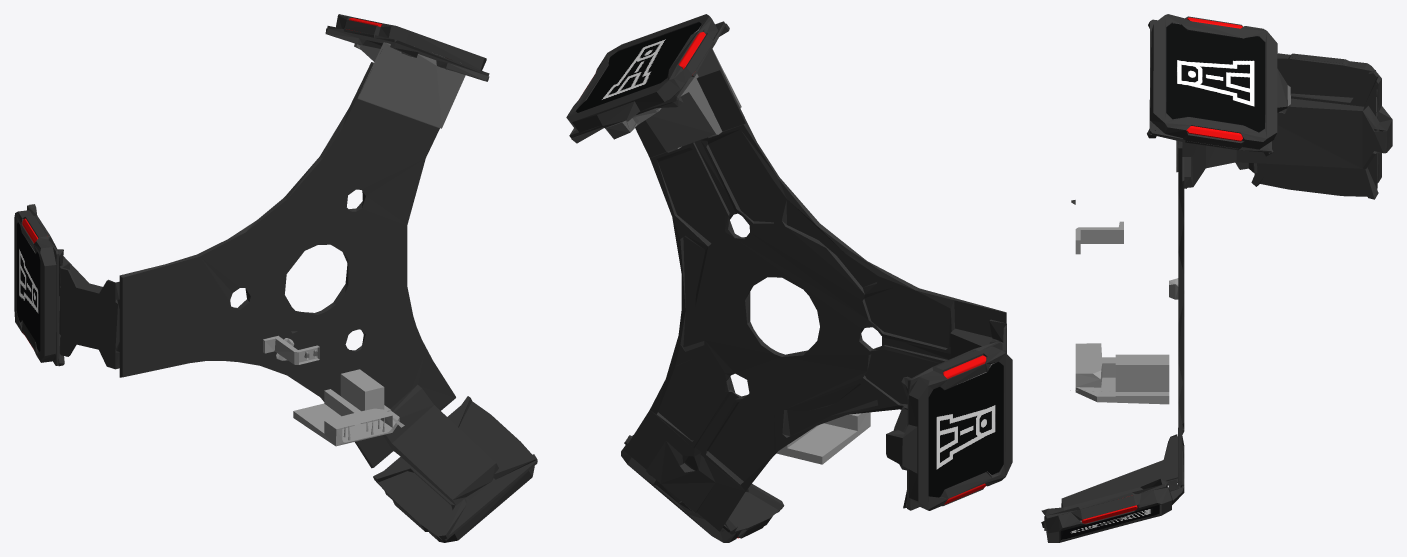
File: rotor_visual.glb
3 views of the same model, side by side, from view 1: azimuth 30°, elevation 25°; view 2: azimuth 150°, elevation 25°; view 3: azimuth 270°, elevation 25° (orthographic). The views are drawn at different scales.
Parts seen in each view (by area): view 1: rotor_visual; view 2: rotor_visual; view 3: rotor_visual.
Boxes of the visible parts, x1=… form: rotor_visual: x1=14, y1=14, x2=537, y2=542; rotor_visual: x1=566, y1=14, x2=1012, y2=542; rotor_visual: x1=1041, y1=14, x2=1392, y2=542.
Bounding box in the file's own units: 0.4926 × 0.5659 × 0.3414.
20 materials, 1 textured.
